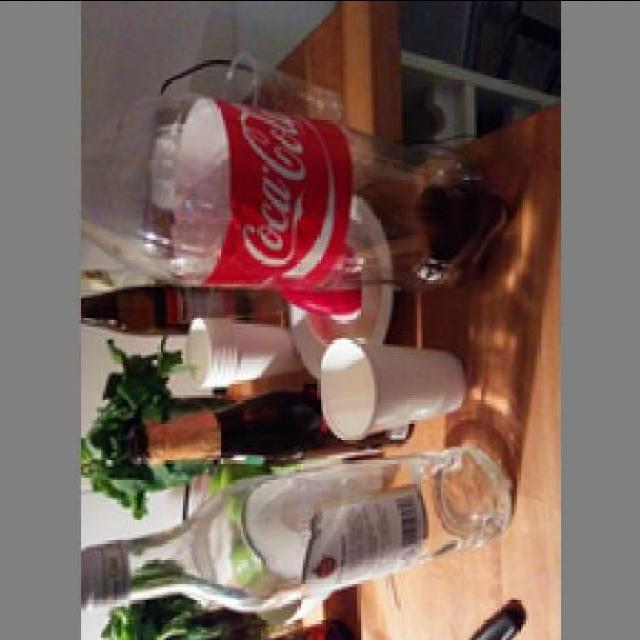Coke: (77, 92, 514, 292)
